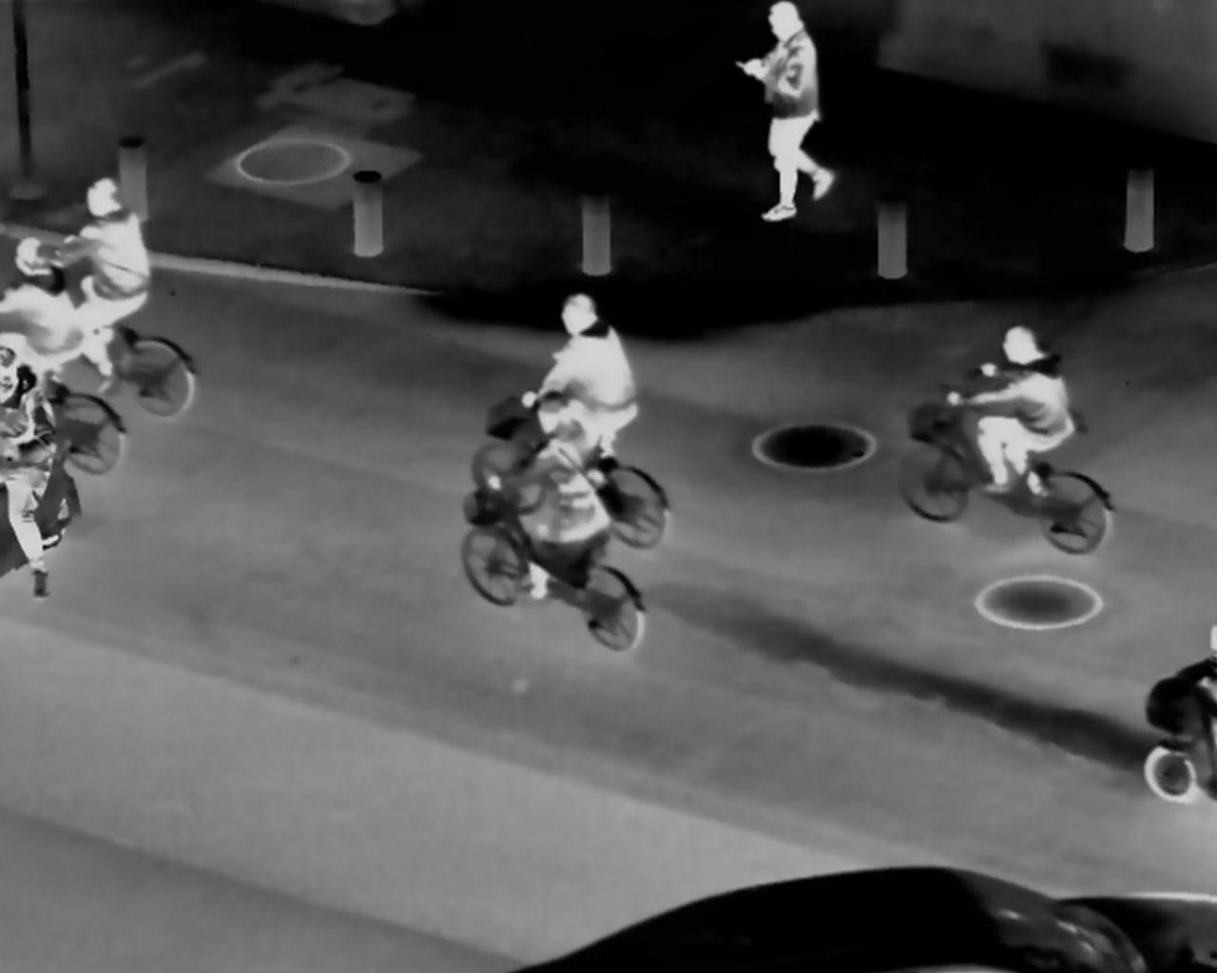person: (477, 390, 617, 611), (952, 313, 1083, 511), (733, 4, 842, 227), (540, 303, 646, 500), (65, 173, 167, 372)
